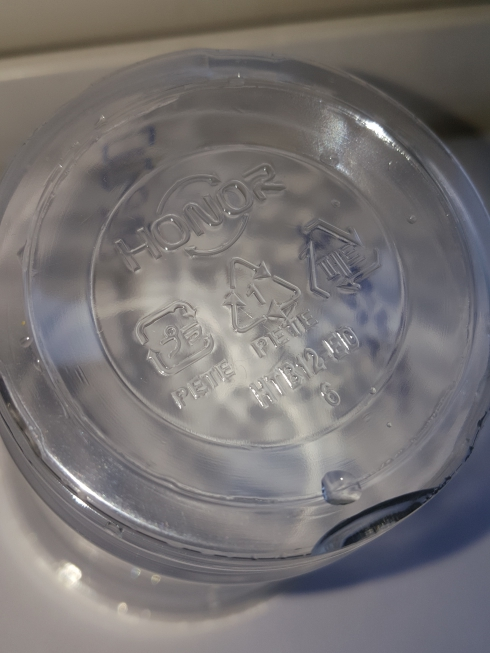recycle: (221, 251, 322, 357)
